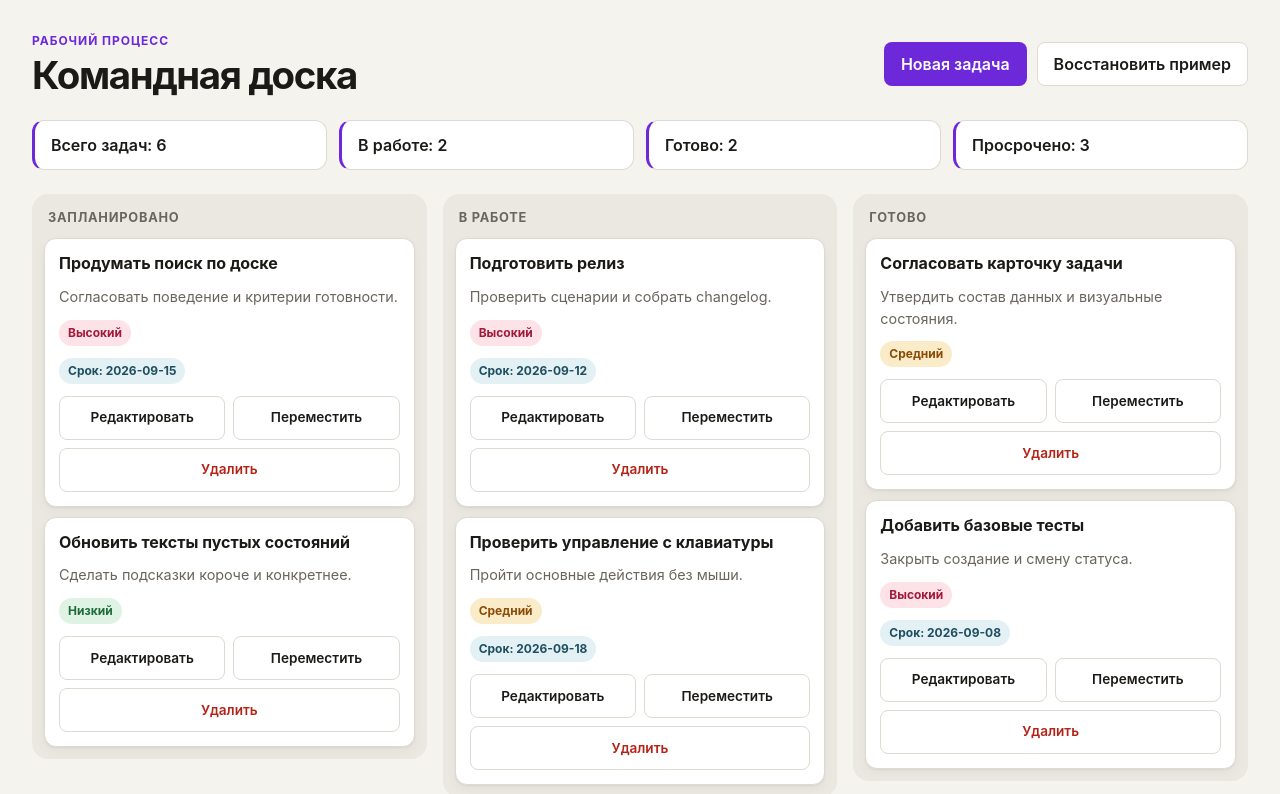
Test: App › reports board totals from persisted data
The width and height of the screenshot is (1280, 794).
Expected: the text "Всего задач: 6" is shown, [32,120,327,170]
Expected: the text "В работе: 2" is shown, [339,120,634,170]
Click the button with aria-label "Переместить: Подготовить релиз". click: click(727, 418)
box: [644,396,810,440]
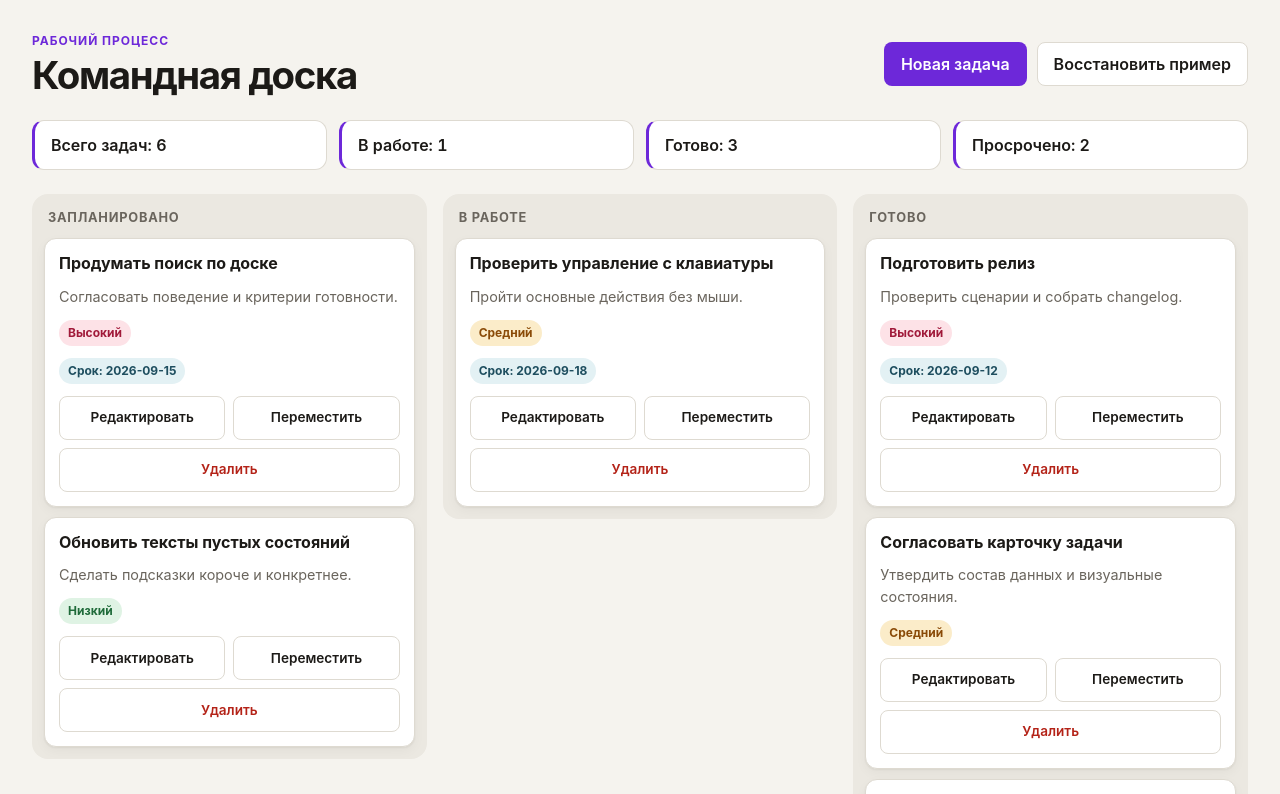
Expected: the text "В работе: 1" is shown, [339,120,634,170]
Expected: the text "Готово: 3" is shown, [646,120,941,170]
